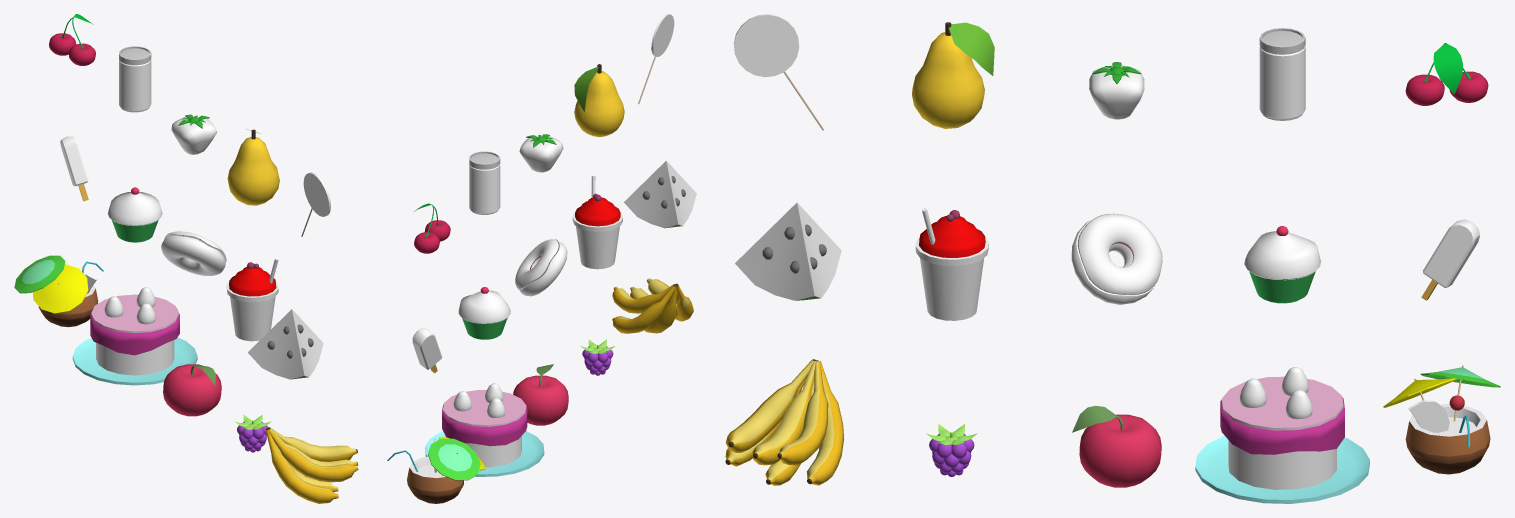
The model's file is Unity2Skfb.gltf.
The picture shows the model from 3 angles, left to right: view 1: azimuth 30°, elevation 25°; view 2: azimuth 150°, elevation 25°; view 3: azimuth 270°, elevation 25°; orthographic projection. The views are drawn at different scales.
Parts seen in each view (by area): view 1: Cake, Bananas, Watermelon, Milkshake, Pear, Apple, Cupcake, Donut, Can, umbrella1, umbrella, pCube1 (+5 smaller); view 2: Cake, Bananas, Watermelon, Milkshake, Pear, Apple, Cupcake, Donut, Can, umbrella, coconut, pCube1 (+4 smaller); view 3: Cake, Bananas, Donut, Watermelon, Pear, Milkshake, Apple, Cupcake, Can, coconut, Lollipop, Cherry (+5 smaller).
Boxes of the visible parts, bbox=[...] form: Cake: bbox=[72, 287, 197, 385]; Bananas: bbox=[265, 427, 358, 503]; Watermelon: bbox=[248, 309, 323, 379]; Milkshake: bbox=[226, 258, 278, 341]; Pear: bbox=[227, 129, 279, 205]; Apple: bbox=[163, 364, 221, 416]; Cupcake: bbox=[107, 187, 162, 242]; Donut: bbox=[161, 231, 226, 275]; Can: bbox=[119, 46, 151, 112]; umbrella1: bbox=[32, 264, 88, 313]; umbrella: bbox=[14, 255, 65, 293]; pCube1: bbox=[171, 116, 216, 154]; Cake: bbox=[425, 383, 544, 476]; Bananas: bbox=[612, 278, 693, 333]; Watermelon: bbox=[624, 160, 696, 228]; Milkshake: bbox=[572, 176, 622, 269]; Pear: bbox=[574, 64, 624, 137]; Apple: bbox=[513, 364, 568, 425]; Cupcake: bbox=[458, 287, 510, 339]; Donut: bbox=[515, 239, 567, 296]; Can: bbox=[469, 151, 500, 214]; umbrella: bbox=[428, 438, 480, 480]; coconut: bbox=[407, 456, 463, 503]; pCube1: bbox=[519, 135, 563, 172]; Cake: bbox=[1195, 367, 1369, 503]; Bananas: bbox=[725, 359, 844, 485]; Donut: bbox=[1071, 213, 1162, 304]; Watermelon: bbox=[735, 202, 841, 300]; Pear: bbox=[912, 22, 994, 128]; Milkshake: bbox=[915, 208, 988, 320]; Apple: bbox=[1072, 405, 1161, 487]; Cupcake: bbox=[1244, 226, 1320, 303]; Can: bbox=[1259, 28, 1305, 120]; coconut: bbox=[1405, 404, 1490, 474]; Lollipop: bbox=[733, 14, 824, 130]; Cherry: bbox=[1405, 43, 1488, 105].
Size of the model in its own units: 1.59 by 4.67 by 7.03.
